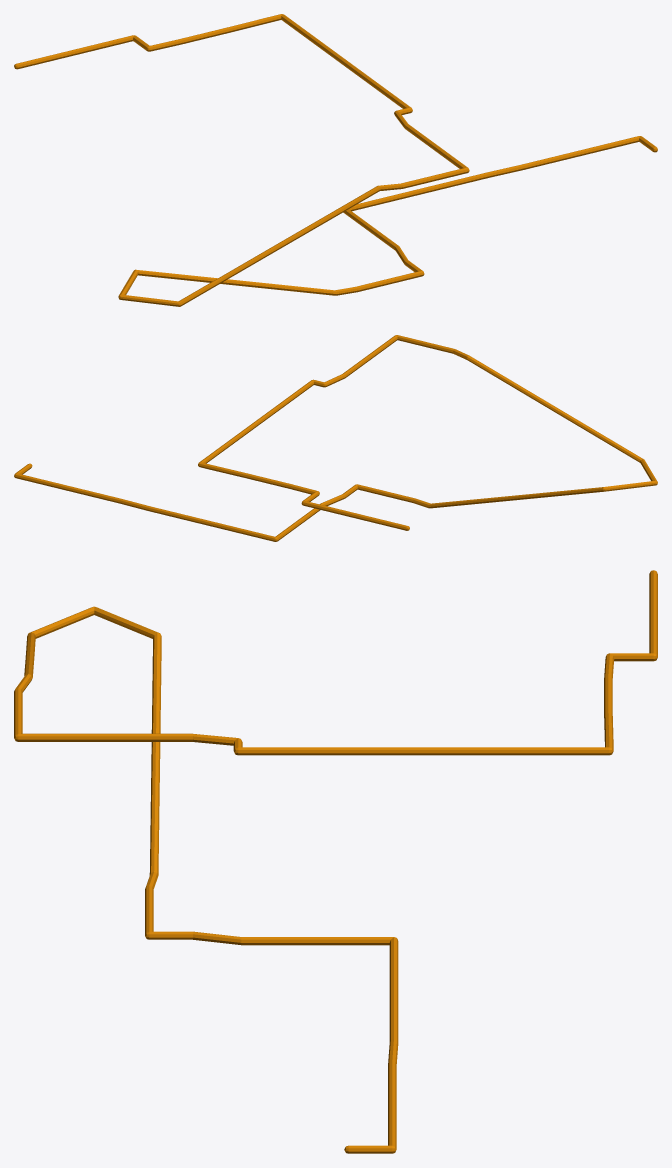
3 renders of one model, top to bottom at view 1: azimuth 30°, elevation 25°; view 2: azimuth 150°, elevation 25°; view 3: azimuth 270°, elevation 25°, orthographic. The views are drawn at different scales.
Bounding box in the file's own units: 2406 × 520 × 1475.
